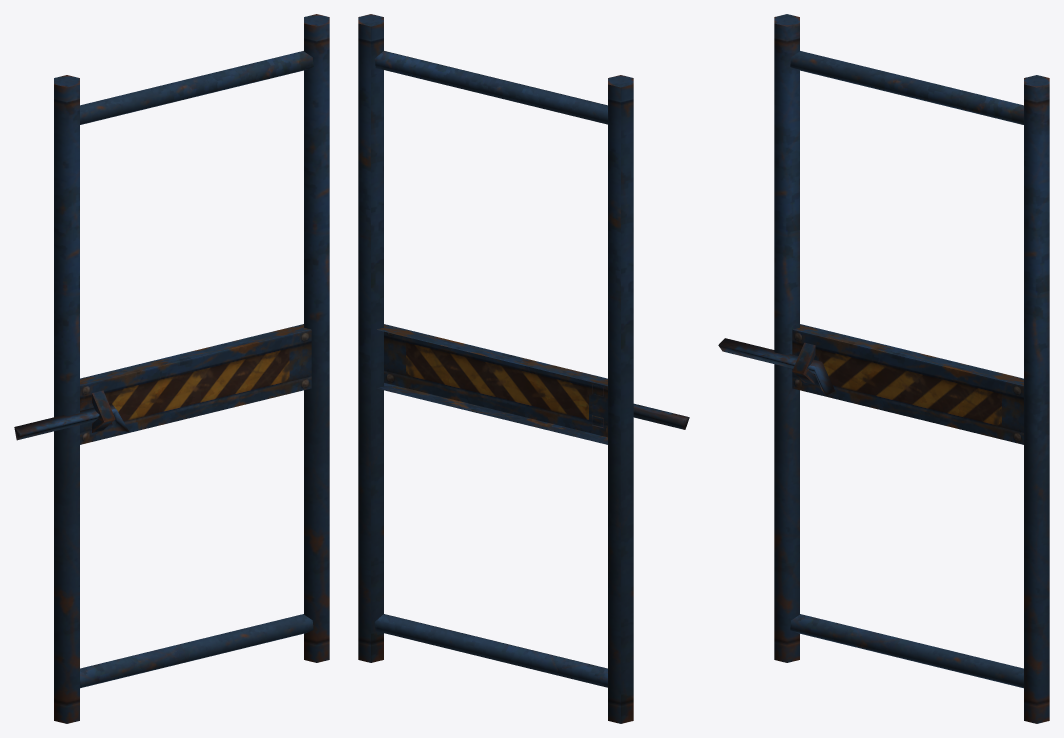
Rendered from Stage-gongchang-bianlan6.FBX.
3 views of the same model, side by side, from view 1: azimuth 30°, elevation 25°; view 2: azimuth 150°, elevation 25°; view 3: azimuth 330°, elevation 25° (orthographic).
Parts seen in each view (by area): view 1: Object27; view 2: Object27; view 3: Object27.
Boxes of the visible parts, x1,y1,x2,y2 form: Object27: (14, 14, 329, 723); Object27: (358, 14, 689, 723); Object27: (718, 14, 1049, 723).
Bounding box in the file's own units: 2.89 × 0.3537 × 5.5.
